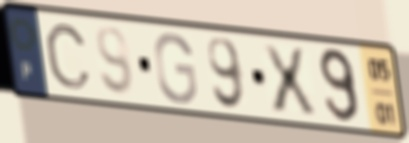9: (317, 45, 362, 127), (93, 24, 137, 99), (205, 36, 248, 112)
C: (42, 21, 94, 92)
G: (151, 30, 200, 107)
X: (258, 41, 320, 118)
